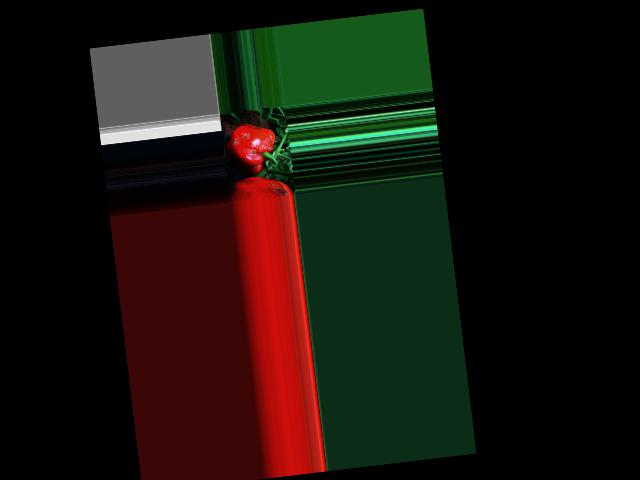bell_pepper: (220, 123, 283, 177)
